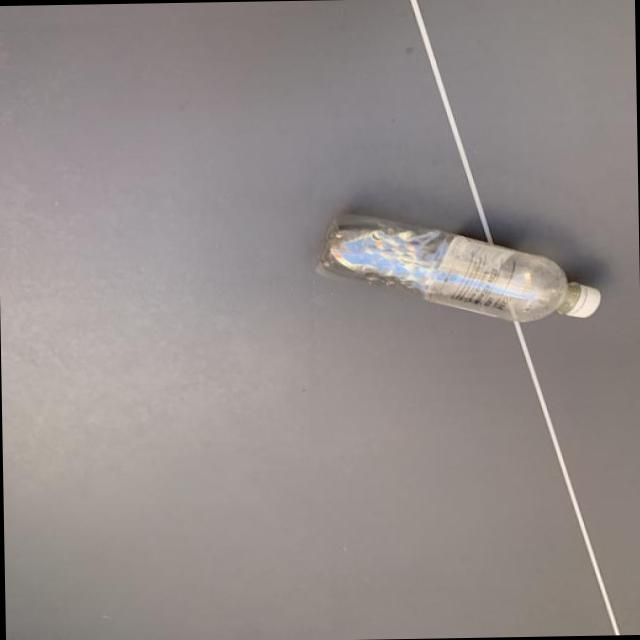plastic_bottle: (313, 209, 601, 325)
